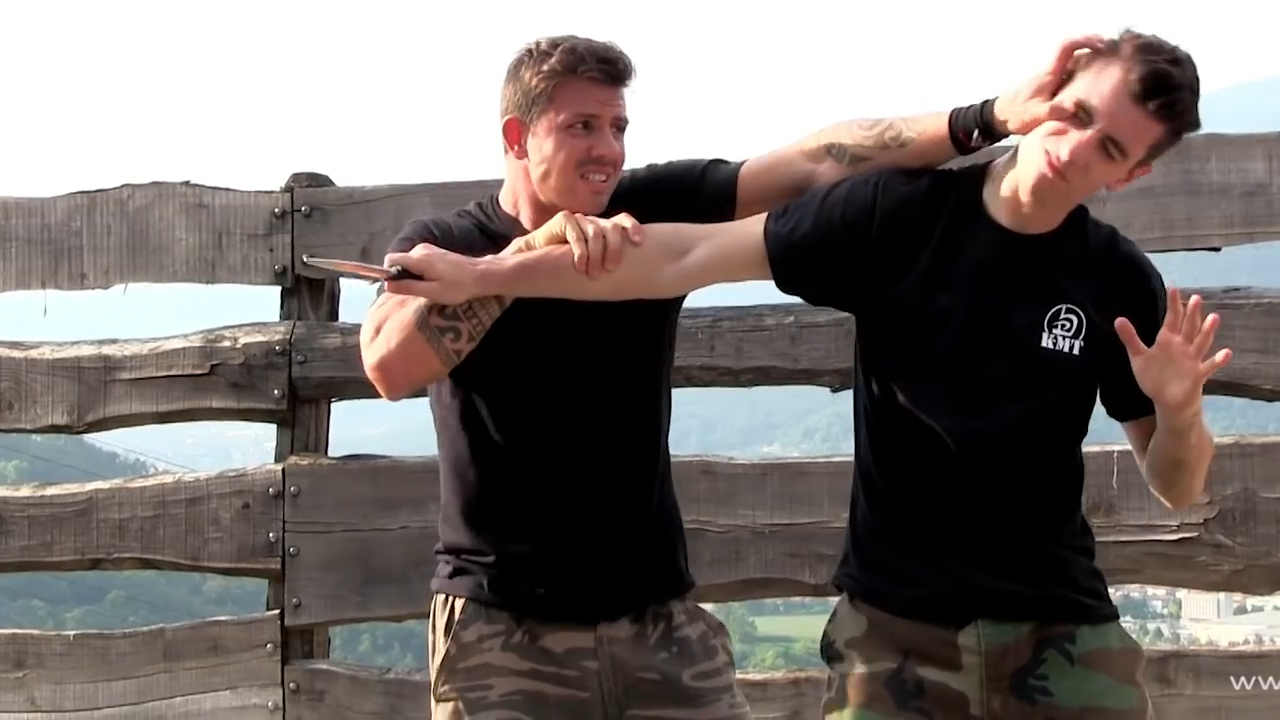knife: (287, 238, 460, 312)
